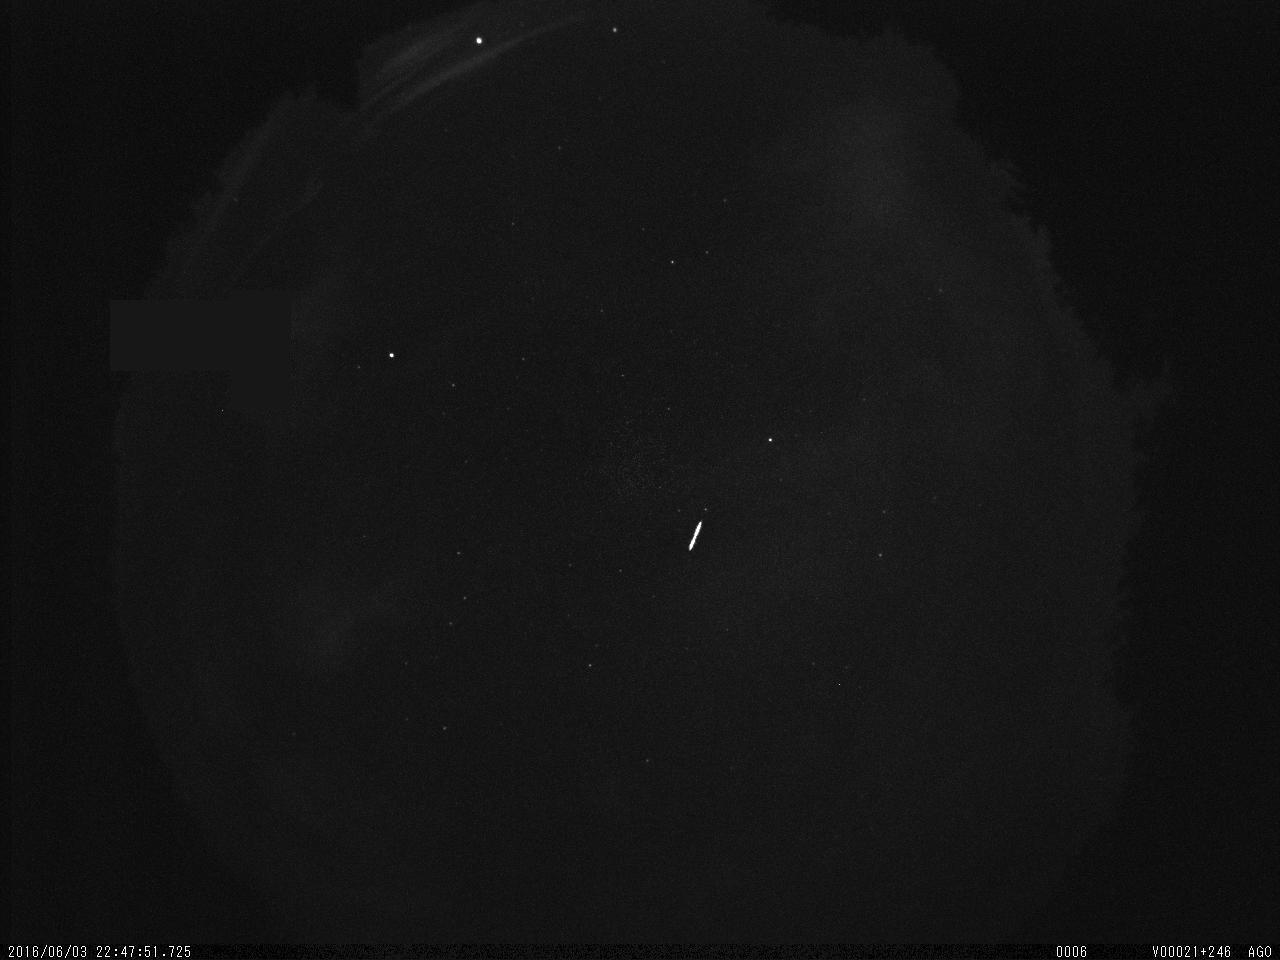satelite: (682, 517, 709, 555)
